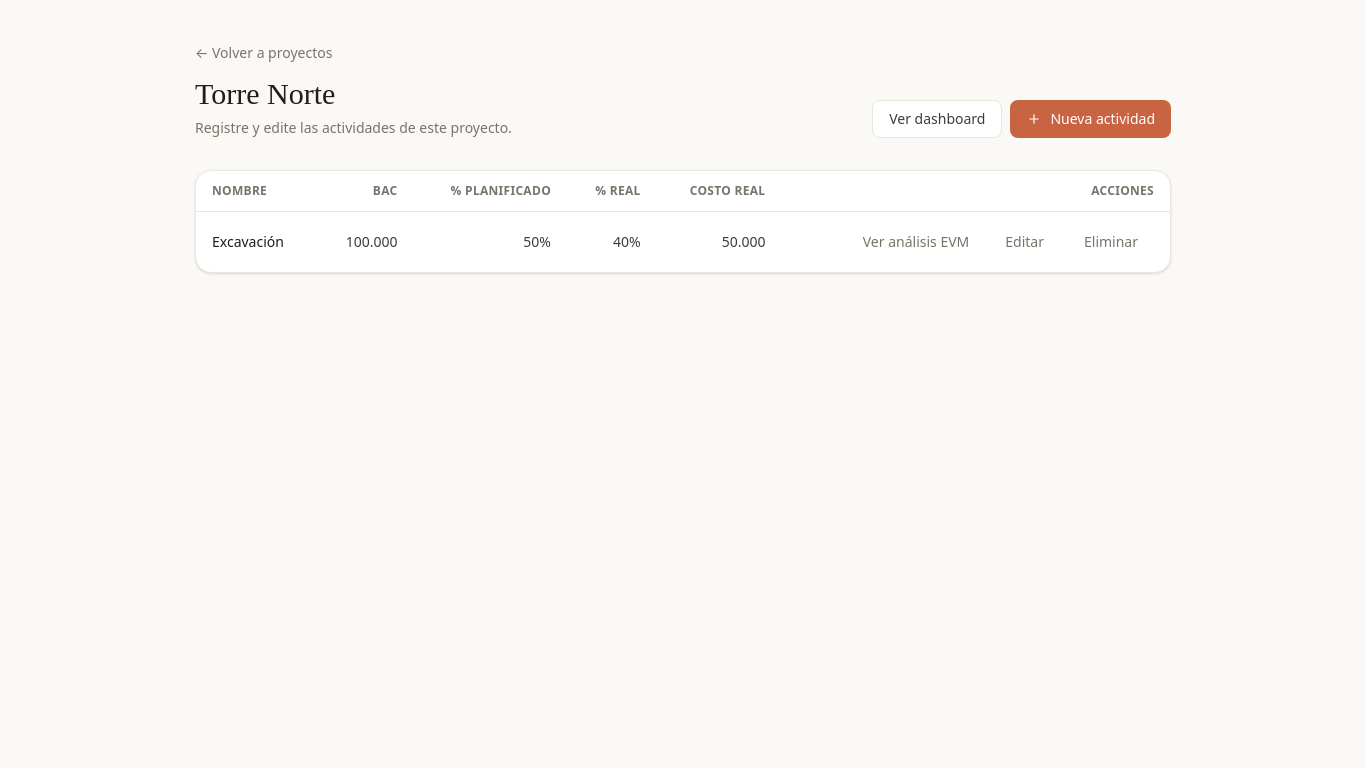
Test: ActividadesListado › edits an activity and refreshes the list
The width and height of the screenshot is (1366, 768).
Expected: the text "Excavación" is shown, [196, 212, 316, 272]
Click the button "Editar".
click(1025, 242)  # box [989, 224, 1060, 260]
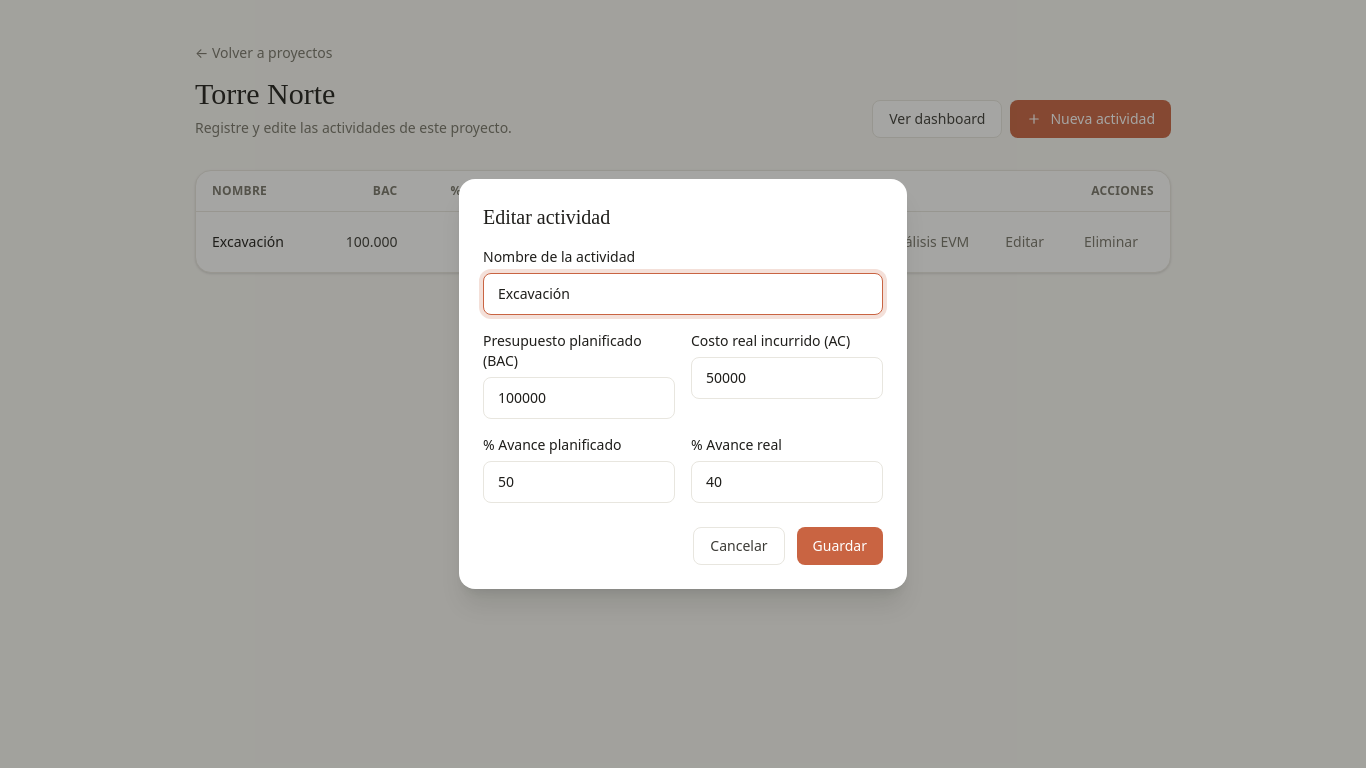
Replace the text in the field labelled "Nombre de la actividad" with "Excavación actualizada" at (683,294), box [483, 273, 883, 315]
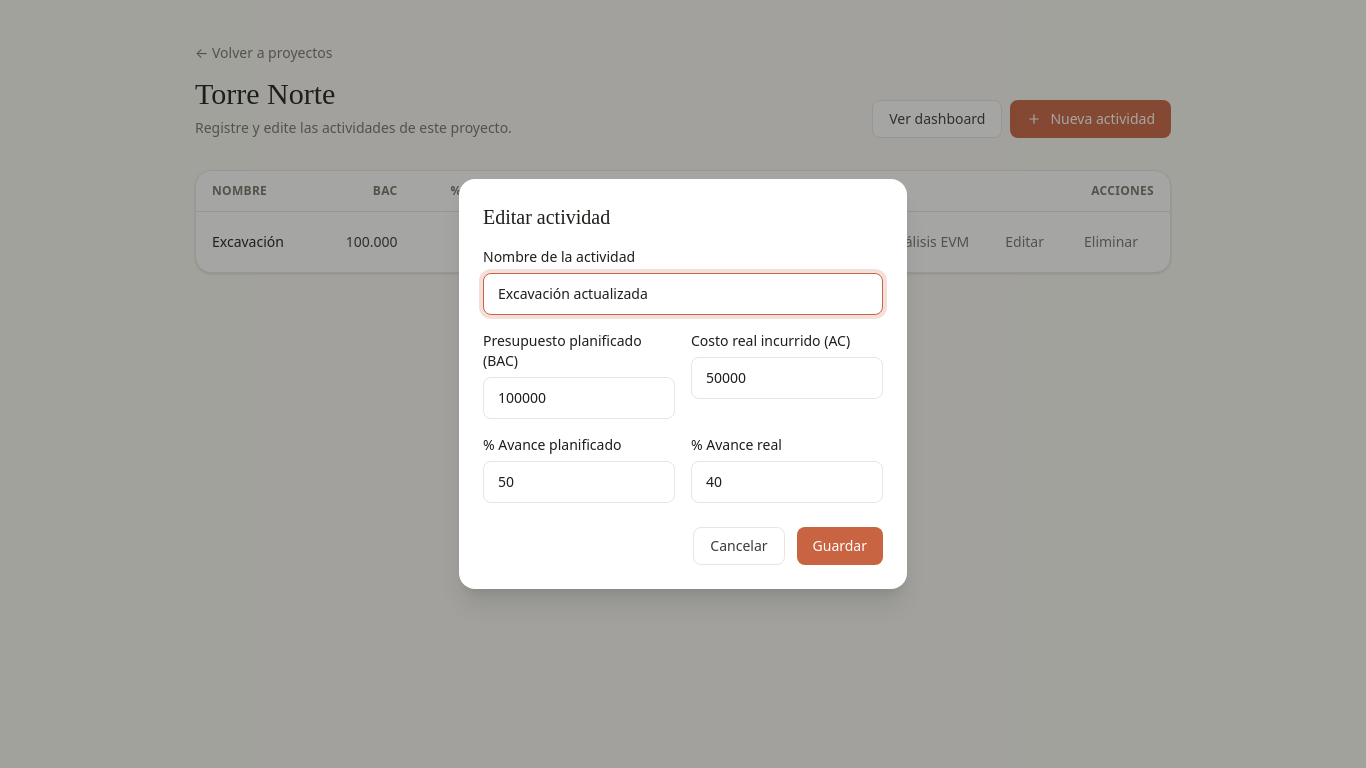
Click the button "Guardar".
click(840, 546)  # box [796, 527, 883, 565]
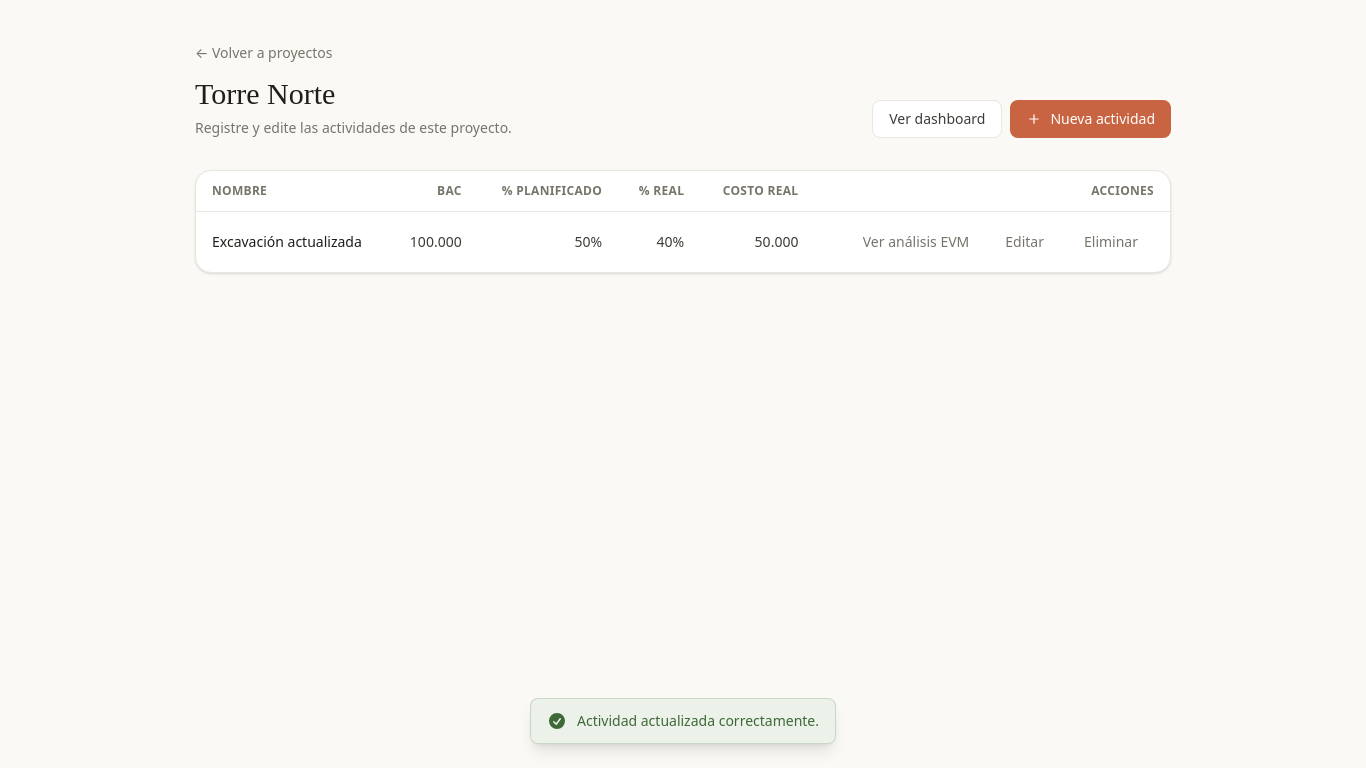
Now the text "Excavación actualizada" is shown, box [196, 212, 389, 272]
